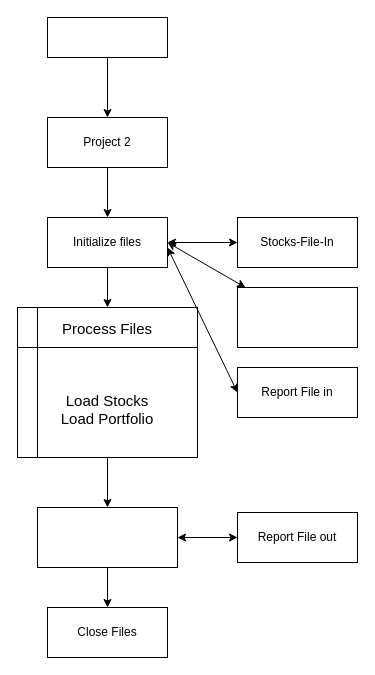
This 375x675 diagram has some shape labels left out. Here are the shapes that lost their labels. From the top down, the centre of each, then its label:
point 107,37: Start Program
point 297,317: Portfolio File-IN
point 107,537: Create Report File
